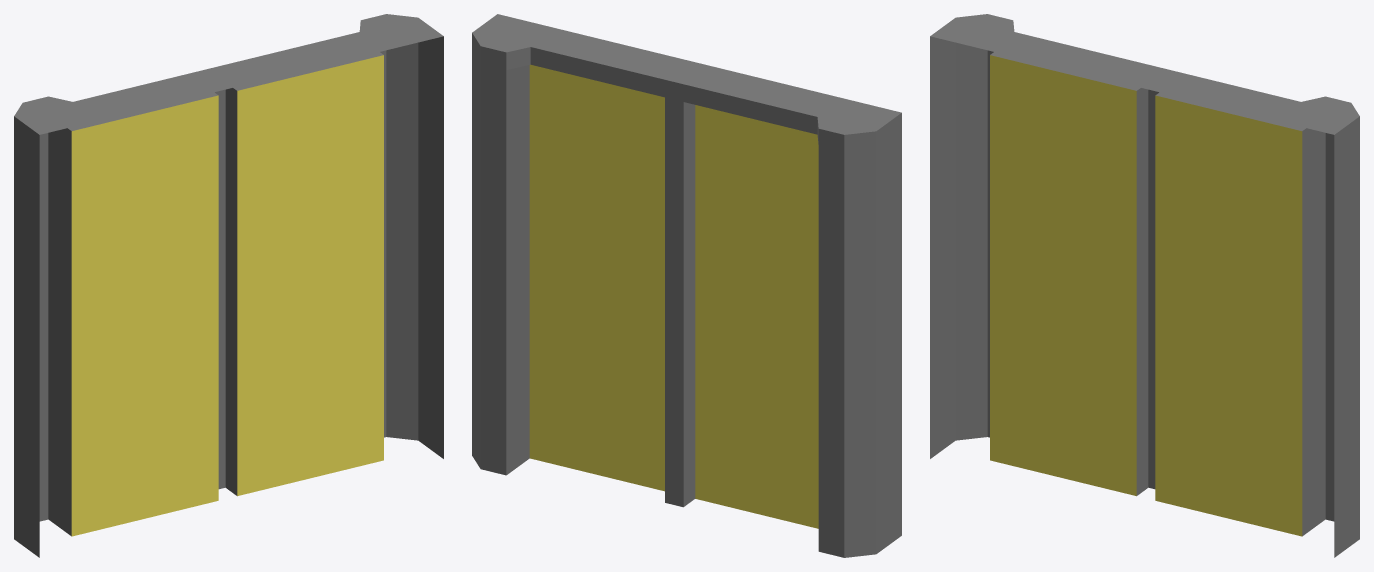
File: TallWindow_Mid.fbx
The picture shows the model from 3 angles, left to right: view 1: azimuth 30°, elevation 25°; view 2: azimuth 150°, elevation 25°; view 3: azimuth 330°, elevation 25°; orthographic projection.
Parts seen in each view (by area): view 1: TallWindow_Mid; view 2: TallWindow_Mid; view 3: TallWindow_Mid.
Boxes of the visible parts, x1,y1,x2,y2 form: TallWindow_Mid: [14, 14, 443, 557]; TallWindow_Mid: [472, 14, 901, 557]; TallWindow_Mid: [930, 14, 1359, 557].
Size of the model in its own units: 1 by 1 by 0.1594.
